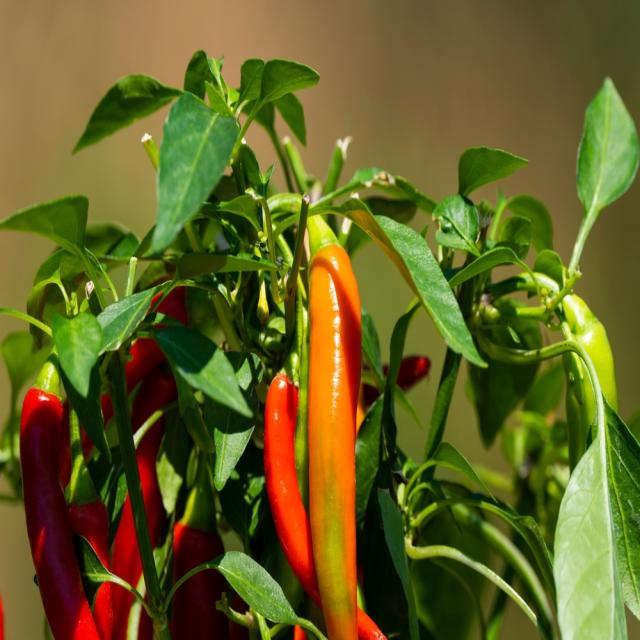Half-Ripe: (308, 217, 361, 639)
Ripe: (20, 376, 100, 639), (264, 369, 322, 608)
Unripe: (563, 318, 618, 469)
